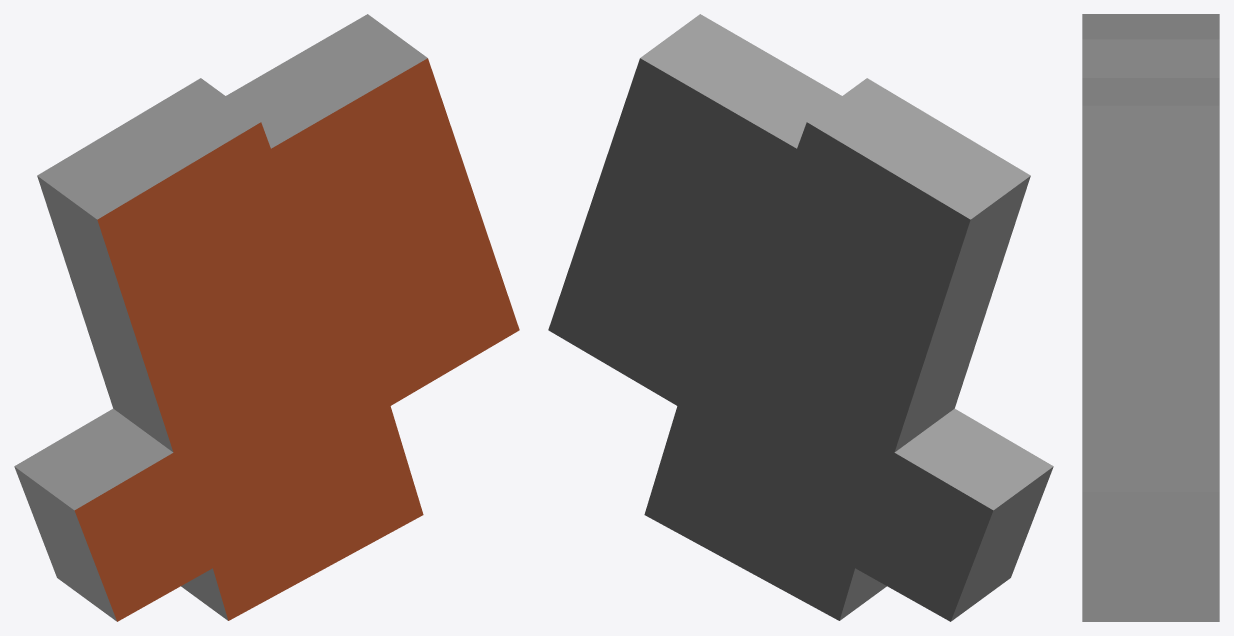
Rendered from construction_4481_assumed_A_Casa_h6m.obj.
The picture shows the model from 3 angles, left to right: view 1: azimuth 30°, elevation 25°; view 2: azimuth 150°, elevation 25°; view 3: azimuth 270°, elevation 25°; orthographic projection. The views are drawn at different scales.
Visible parts, largest first — view 1: construction_4481_assumed_A_Casa; view 2: construction_4481_assumed_A_Casa; view 3: construction_4481_assumed_A_Casa.
Boxes of the visible parts, x1,y1,x2,y2 form: construction_4481_assumed_A_Casa: (14,14,519,621); construction_4481_assumed_A_Casa: (548,14,1053,621); construction_4481_assumed_A_Casa: (1082,14,1219,621).
Size of the model in its own units: 25.6 by 28.25 by 6.
